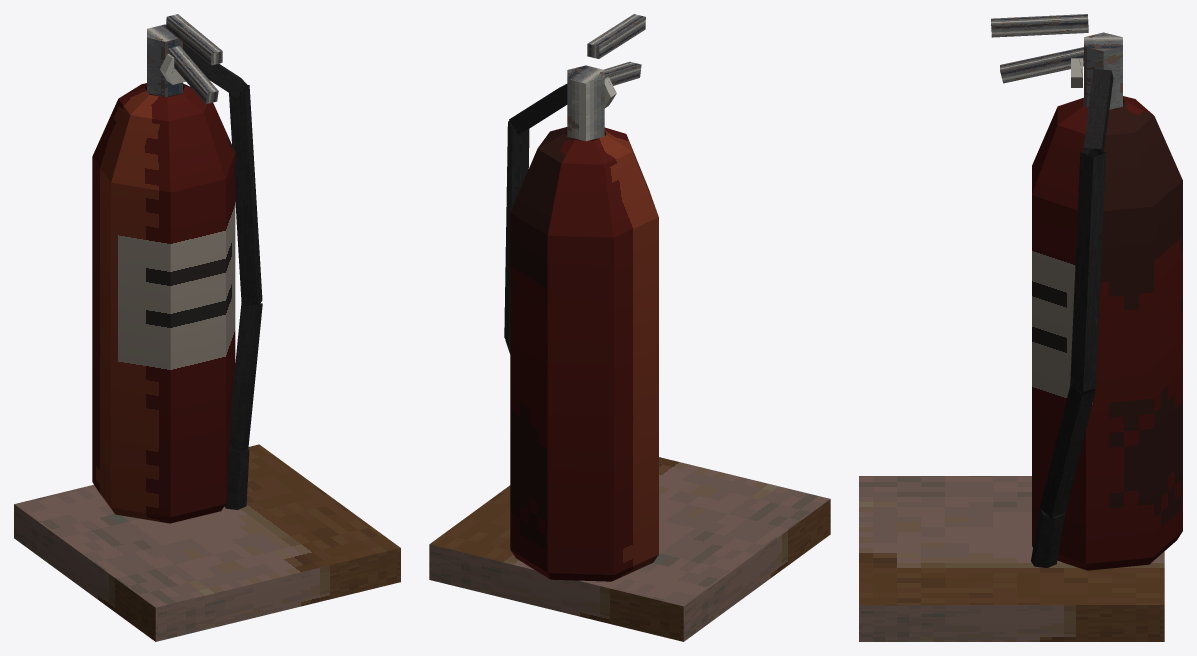
Rendered from prop_fire_extinguisher-1.glb.
3 views of the same model, side by side, from view 1: azimuth 30°, elevation 25°; view 2: azimuth 150°, elevation 25°; view 3: azimuth 270°, elevation 25° (orthographic). The views are drawn at different scales.
Visible parts, largest first — view 1: prop_fire_extinguisher-1; view 2: prop_fire_extinguisher-1; view 3: prop_fire_extinguisher-1.
Part boxes in pixels (box(x1,y1,x2,y2)): prop_fire_extinguisher-1: box(14, 14, 400, 641); prop_fire_extinguisher-1: box(429, 14, 830, 641); prop_fire_extinguisher-1: box(859, 14, 1182, 641).
Bounding box in the file's own units: 0.3 × 0.607 × 0.318.
Materials: 3 (3 with a texture image).
